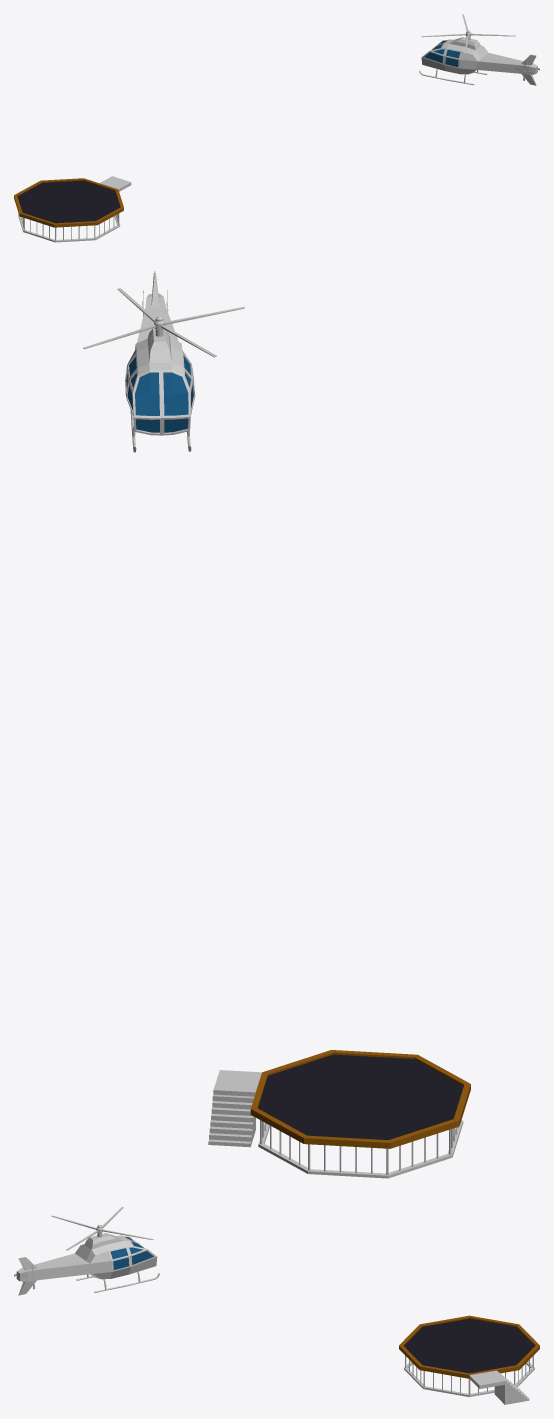
Rendered from copter_000122.obj.
The picture shows the model from 3 angles, top to bottom: view 1: azimuth 30°, elevation 25°; view 2: azimuth 150°, elevation 25°; view 3: azimuth 270°, elevation 25°; orthographic projection. The views are drawn at different scales.
Visible parts, largest first — view 1: Cylinder.001_Cylinder.012, Helicopter.007_Cylinder.008, Helicopter.001_Cylinder.001; view 2: Cylinder.001_Cylinder.012, Helicopter.007_Cylinder.008, Helicopter.001_Cylinder.001; view 3: Cylinder.001_Cylinder.012, Helicopter.007_Cylinder.008, Helicopter.001_Cylinder.001.
Part boxes in pixels (bbox=[...]): Cylinder.001_Cylinder.012: bbox=[14, 176, 131, 242]; Helicopter.007_Cylinder.008: bbox=[419, 37, 537, 85]; Helicopter.001_Cylinder.001: bbox=[421, 14, 515, 54]; Cylinder.001_Cylinder.012: bbox=[208, 1050, 470, 1178]; Helicopter.007_Cylinder.008: bbox=[125, 271, 195, 452]; Helicopter.001_Cylinder.001: bbox=[83, 288, 244, 357]; Cylinder.001_Cylinder.012: bbox=[399, 1315, 539, 1404]; Helicopter.007_Cylinder.008: bbox=[16, 1233, 159, 1295]; Helicopter.001_Cylinder.001: bbox=[51, 1207, 153, 1250].
Bounding box in the file's own units: 23.28 × 15.65 × 25.26.
